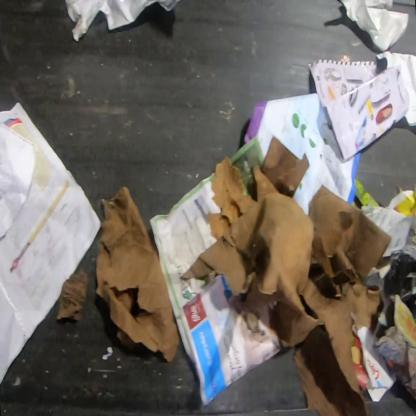cardboard: (178, 133, 391, 415), (94, 183, 181, 362)
